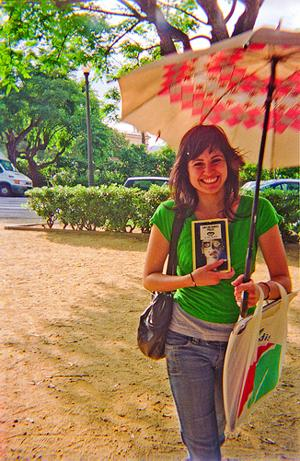person: (144, 123, 292, 461)
